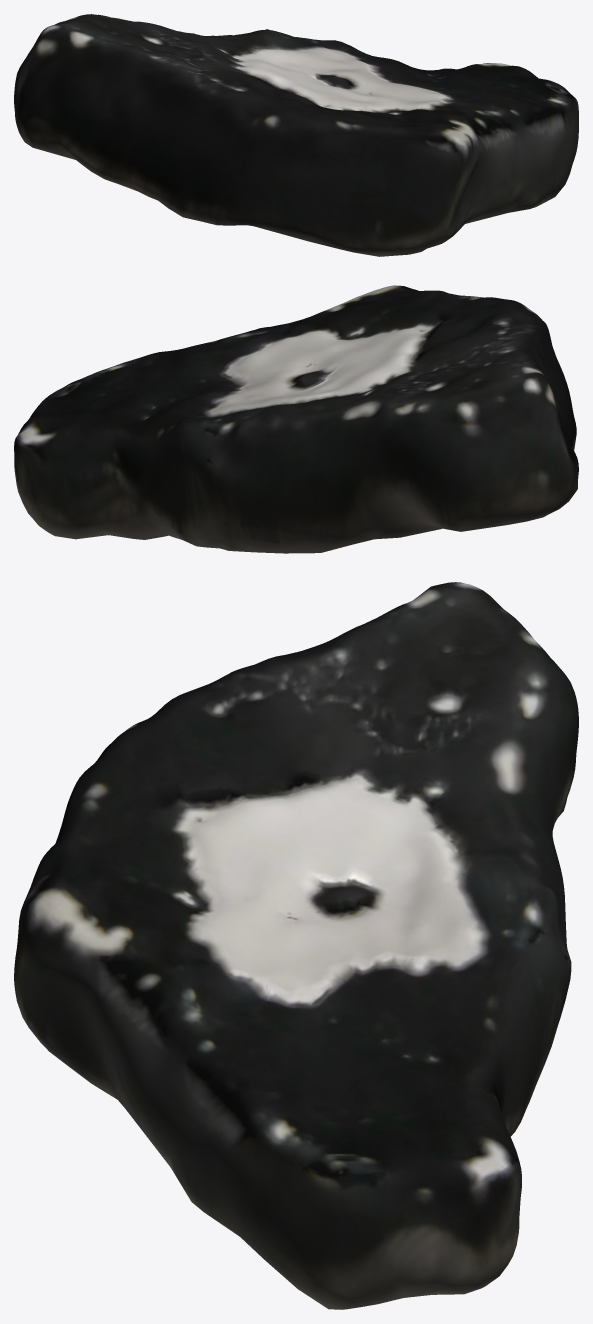
3 renders of one model, top to bottom at view 1: azimuth 30°, elevation 25°; view 2: azimuth 150°, elevation 25°; view 3: azimuth 270°, elevation 25°, orthographic. The views are drawn at different scales.
Size of the model in its own units: 0.5087 by 0.2332 by 0.3071.
Materials: 1 (1 with a texture image).
